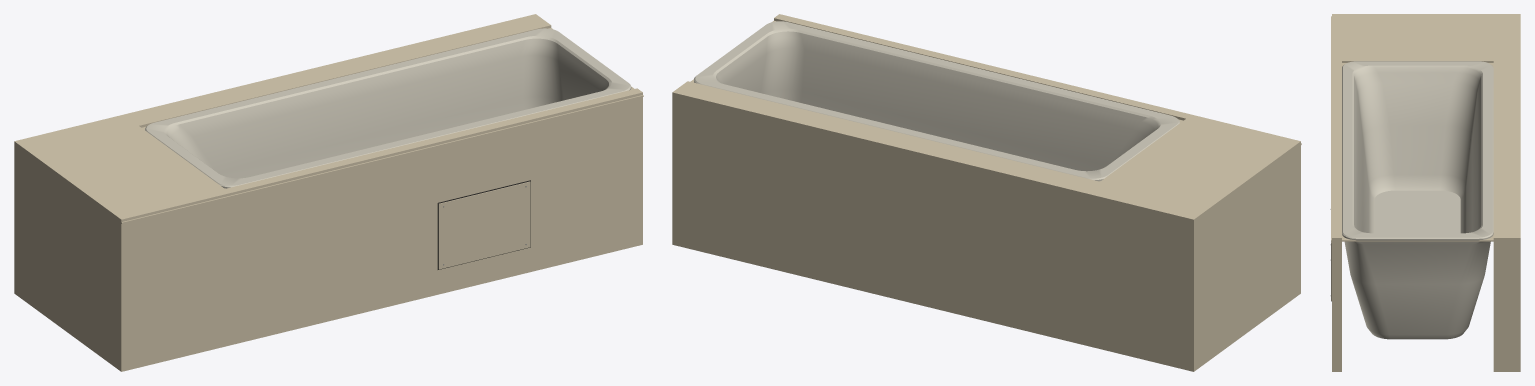
The model's file is bathtub-alcove-63b138b467b3.glb.
The picture shows the model from 3 angles, left to right: view 1: azimuth 30°, elevation 25°; view 2: azimuth 150°, elevation 25°; view 3: azimuth 270°, elevation 25°; orthographic projection. The views are drawn at different scales.
Parts seen in each view (by area): view 1: tile, enamel; view 2: tile, enamel; view 3: enamel, tile.
Boxes of the visible parts, box(x1,y1,x2,y2) form: tile: box(14, 14, 643, 371); enamel: box(145, 28, 631, 188); tile: box(672, 14, 1301, 371); enamel: box(694, 21, 1179, 181); enamel: box(1342, 61, 1493, 339); tile: box(1331, 14, 1520, 371).
Size of the model in its own units: 2.15 by 0.6 by 0.7719.
